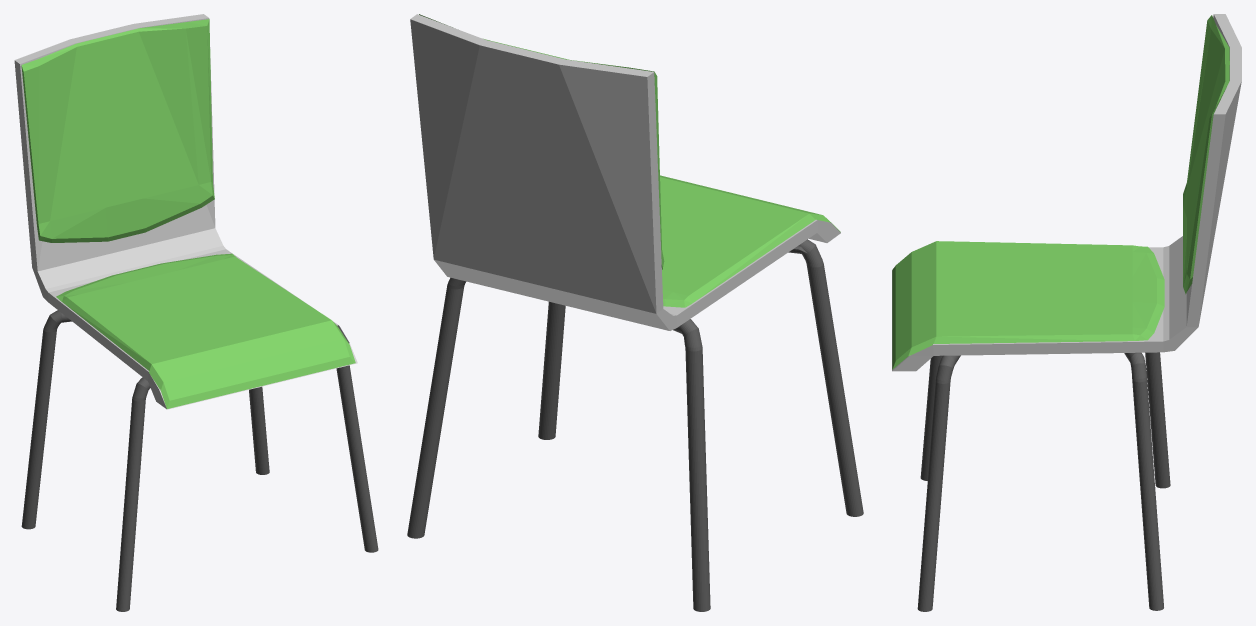
Rendered from classroom_chair_grey.dae.
3 renders of one model, left to right at view 1: azimuth 30°, elevation 25°; view 2: azimuth 150°, elevation 25°; view 3: azimuth 270°, elevation 25°, orthographic. The views are drawn at different scales.
Visible parts, largest first — view 1: Cylinder; view 2: Cylinder; view 3: Cylinder.
Boxes of the visible parts, x1=… form: Cylinder: x1=14, y1=14, x2=378, y2=611; Cylinder: x1=407, y1=14, x2=863, y2=611; Cylinder: x1=892, y1=14, x2=1241, y2=611.
Size of the model in its own units: 2.41 by 2.6 by 3.93.
